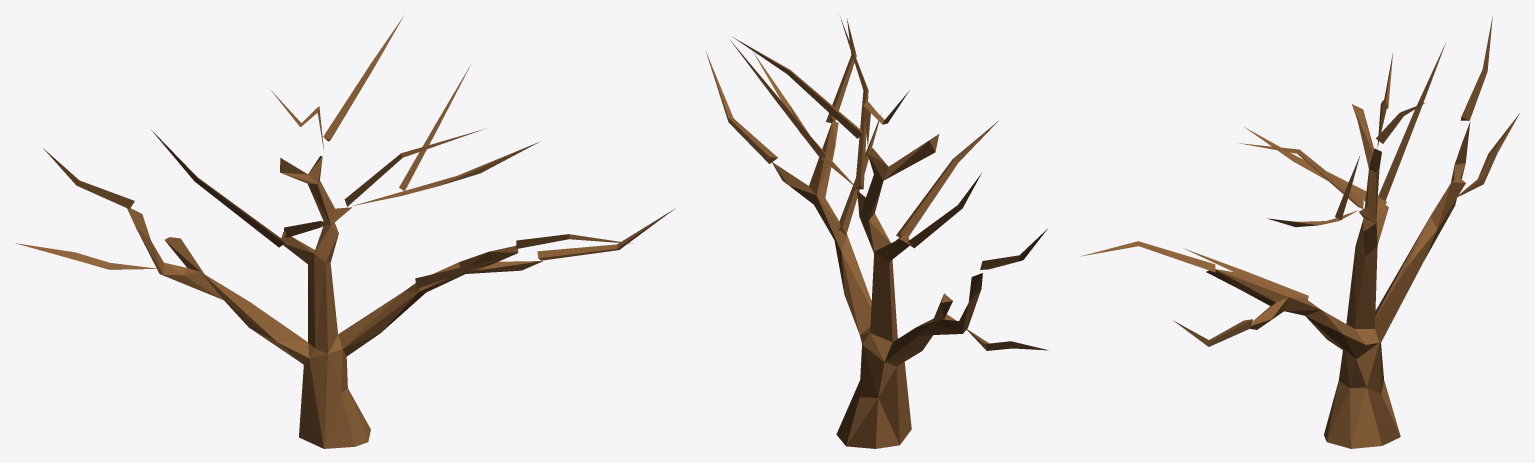
File: guayacan_1_bare_far.glb
3 renders of one model, left to right at view 1: azimuth 30°, elevation 25°; view 2: azimuth 150°, elevation 25°; view 3: azimuth 270°, elevation 25°, orthographic. The views are drawn at different scales.
Parts seen in each view (by area): view 1: guayacan_1_bare_far; view 2: guayacan_1_bare_far; view 3: guayacan_1_bare_far.
Boxes of the visible parts, bbox=[...] form: guayacan_1_bare_far: bbox=[16, 16, 675, 448]; guayacan_1_bare_far: bbox=[706, 16, 1048, 448]; guayacan_1_bare_far: bbox=[1080, 16, 1519, 448].
Bounding box in the file's own units: 8.02 × 5.77 × 6.04.
